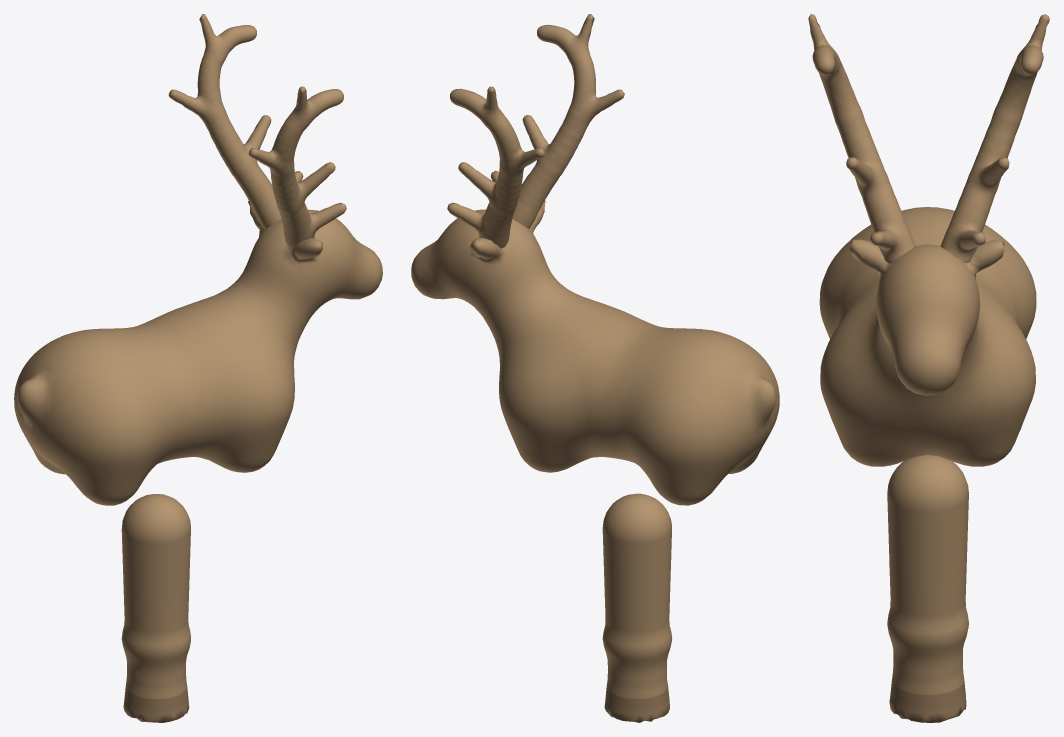
Rendered from reindeer183_adult.glb.
3 views of the same model, side by side, from view 1: azimuth 30°, elevation 25°; view 2: azimuth 150°, elevation 25°; view 3: azimuth 270°, elevation 25° (orthographic). The views are drawn at different scales.
Parts seen in each view (by area): view 1: body, leg, horn; view 2: body, leg, horn; view 3: body, leg, horn.
Boxes of the visible parts, left/top/right/bottom form: body: left=14, top=201, right=382, bottom=505; leg: left=121, top=494, right=190, bottom=722; horn: left=168, top=14, right=346, bottom=248; body: left=411, top=200, right=779, bottom=505; leg: left=602, top=493, right=672, bottom=722; horn: left=447, top=14, right=624, bottom=248; body: left=819, top=207, right=1036, bottom=466; leg: left=887, top=455, right=968, bottom=722; horn: left=808, top=14, right=1049, bottom=263.
Size of the model in its own units: 2.4 by 4.04 by 1.18.
